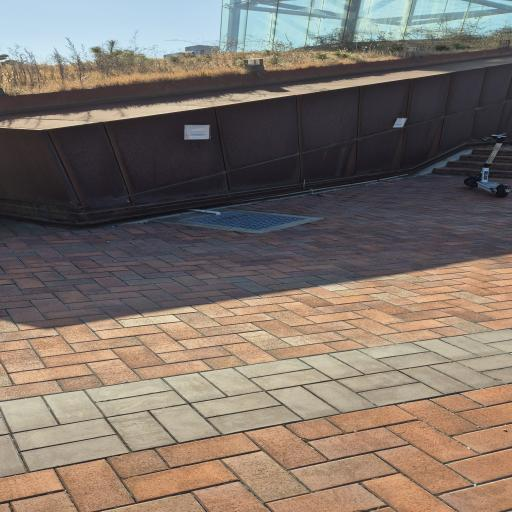drain: (187, 210, 296, 230)
